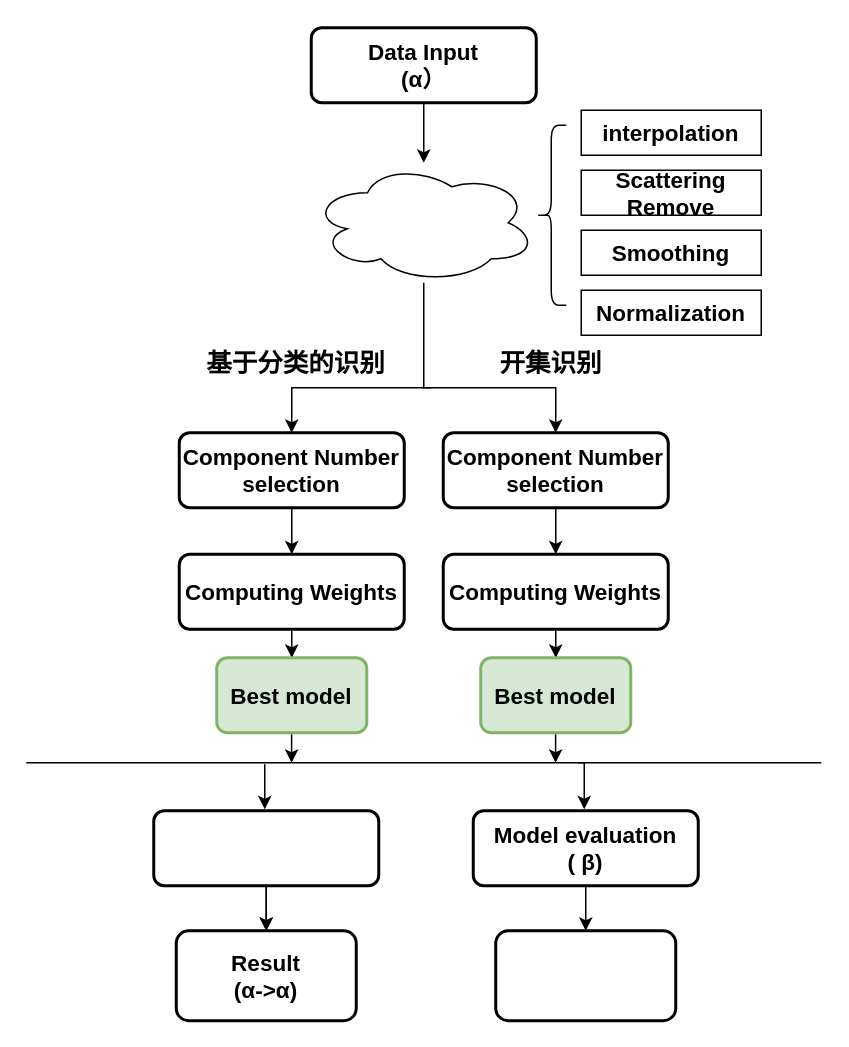
The diagram is 849 pixels wide and 1047 high, and some of its shapes have lost their labels. Each missing label, with the centre of its shape:
"Model evaluation ( α)(Cross Validation)" goes at point (266, 847).
"Preprocessing" goes at point (423, 222).
"Result (α->β)" goes at point (585, 975).
